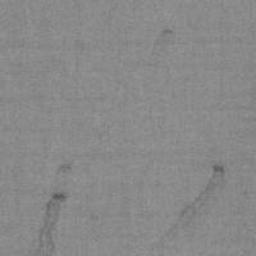Water spot: (157, 164, 225, 252), (39, 193, 67, 256), (58, 164, 71, 173), (162, 29, 173, 35)
